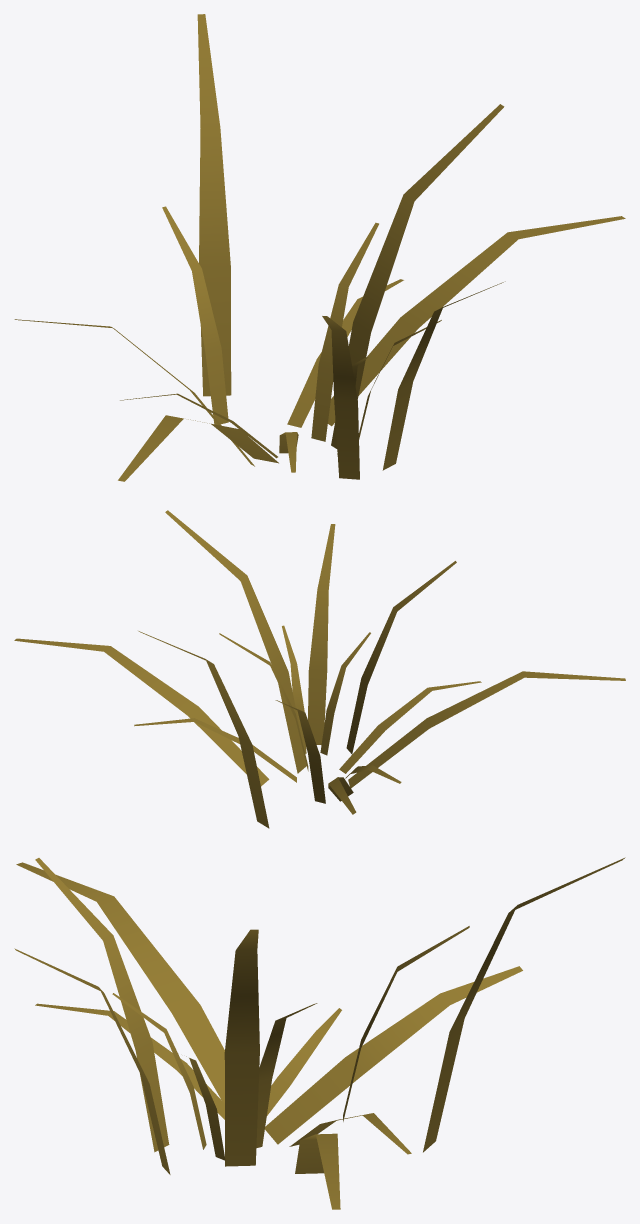
File: GrassDry4_1.fbx
The picture shows the model from 3 angles, top to bottom: view 1: azimuth 30°, elevation 25°; view 2: azimuth 150°, elevation 25°; view 3: azimuth 270°, elevation 25°; orthographic projection. The views are drawn at different scales.
Visible parts, largest first — view 1: Grass; view 2: Grass; view 3: Grass.
Boxes of the visible parts, x1,y1,x2,y2 form: Grass: (14, 14, 625, 481); Grass: (14, 510, 625, 828); Grass: (14, 857, 625, 1209).
Bounding box in the file's own units: 195 × 89.31 × 145.
